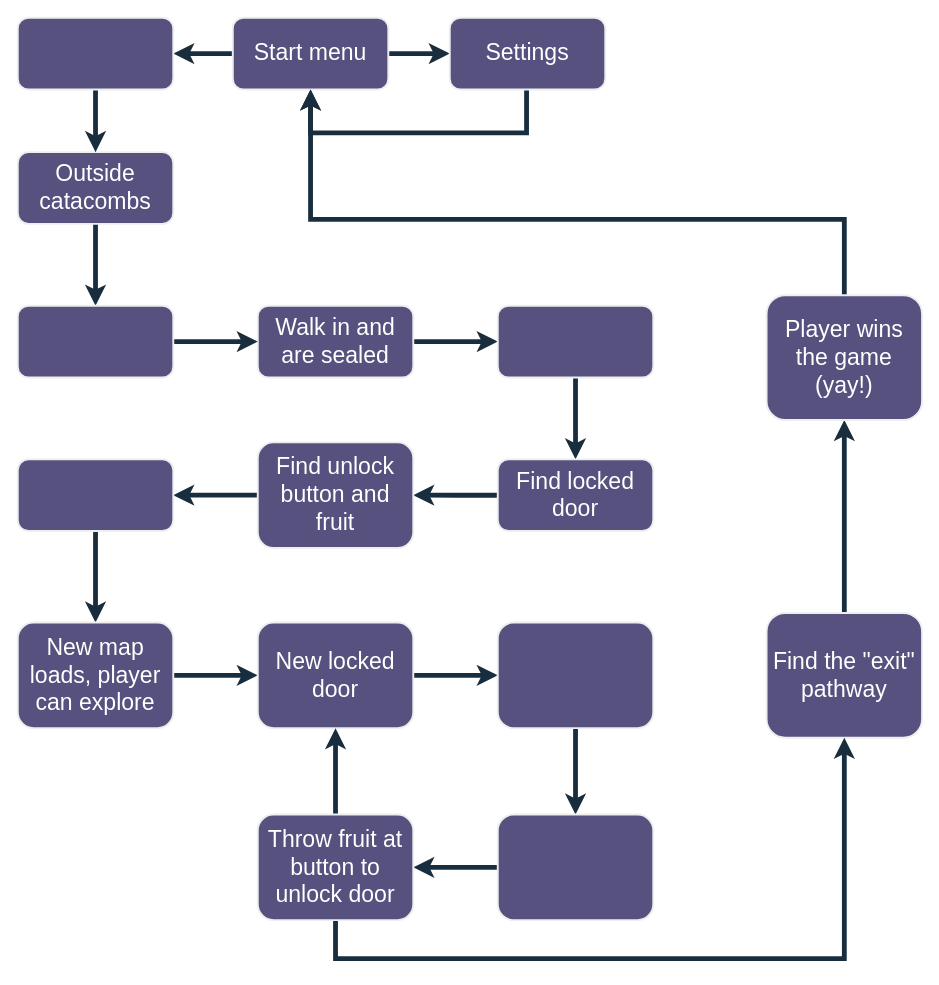
Image size: 939x985. Some labels were removed from this diagram. Here are the shapes that lost their labels. From the top down, the box of each, then its label:
(16, 16, 174, 90): Start game
(16, 304, 174, 378): Get used to controls
(496, 304, 654, 378): Explore entranceway
(16, 458, 174, 532): Unlock door
(496, 621, 654, 729): Find fruit
(496, 813, 654, 921): Find unlock button
